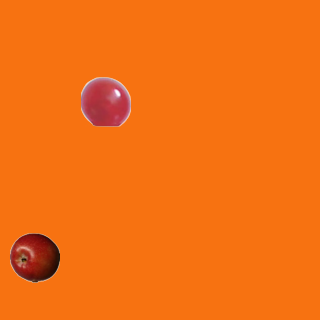Apple Braeburn: (9, 232, 59, 282)
Redcurrant: (80, 76, 130, 126)
